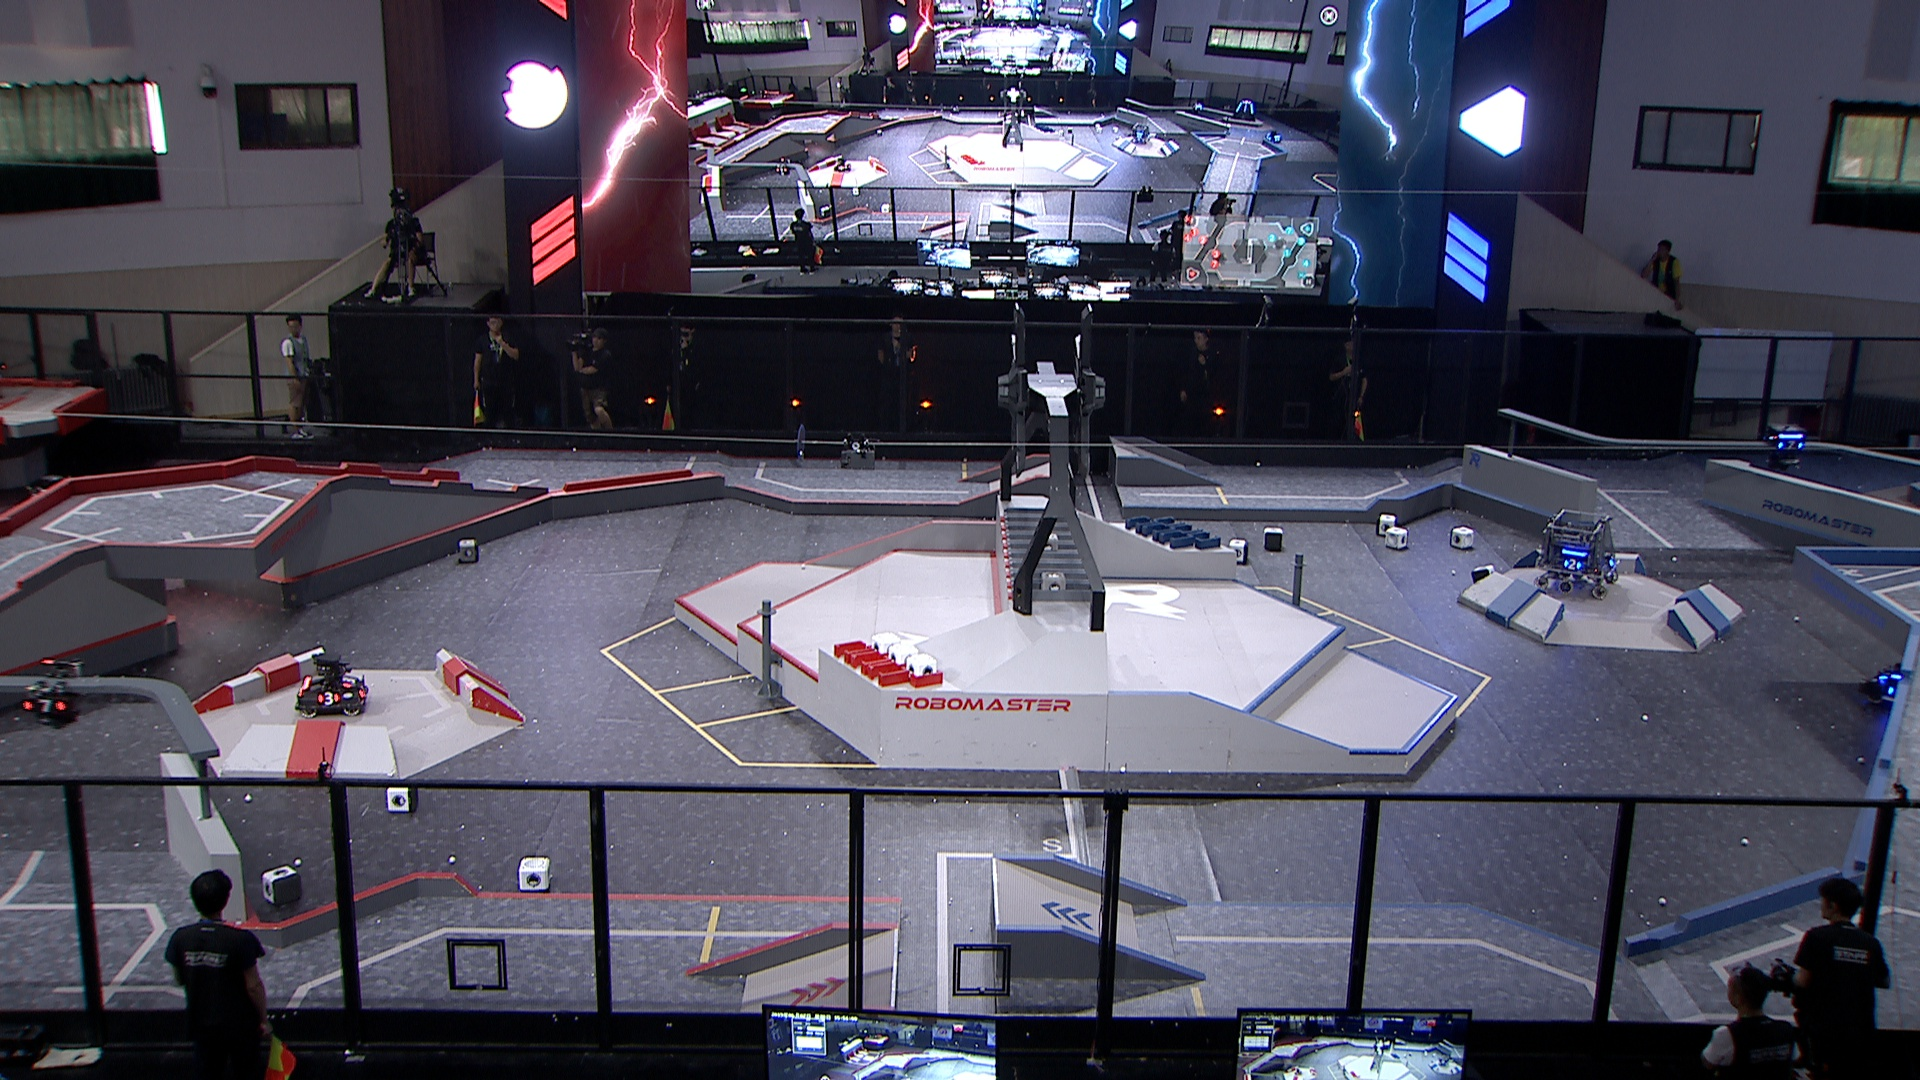armor: (21, 698, 67, 716), (1774, 439, 1804, 452), (316, 690, 342, 705), (338, 674, 357, 688), (1564, 556, 1582, 571)
car: (1534, 506, 1625, 604), (297, 651, 371, 717), (1865, 645, 1920, 716)
ignore: (1229, 98, 1259, 123), (1129, 123, 1153, 145), (771, 158, 793, 177), (832, 157, 855, 173), (1267, 129, 1284, 144)
watcher: (15, 655, 90, 731), (1764, 419, 1812, 476)
